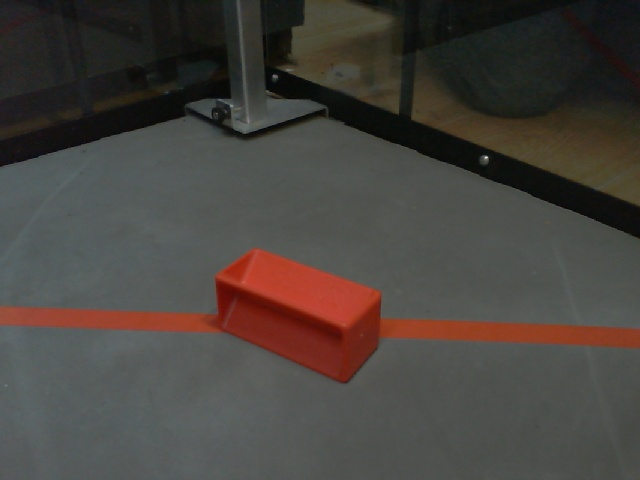RedSample: (214, 246, 383, 380)
